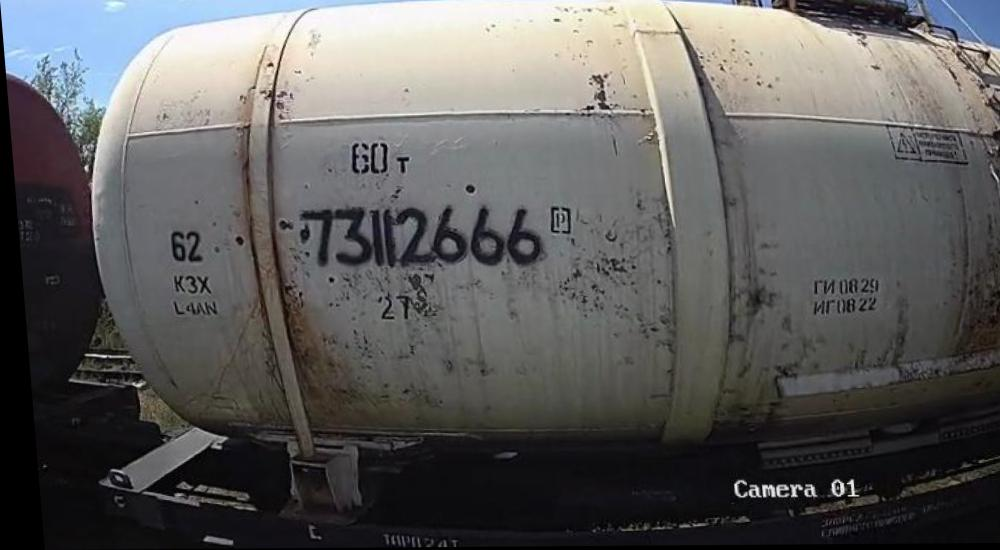Wagon-number: (291, 199, 546, 274)
